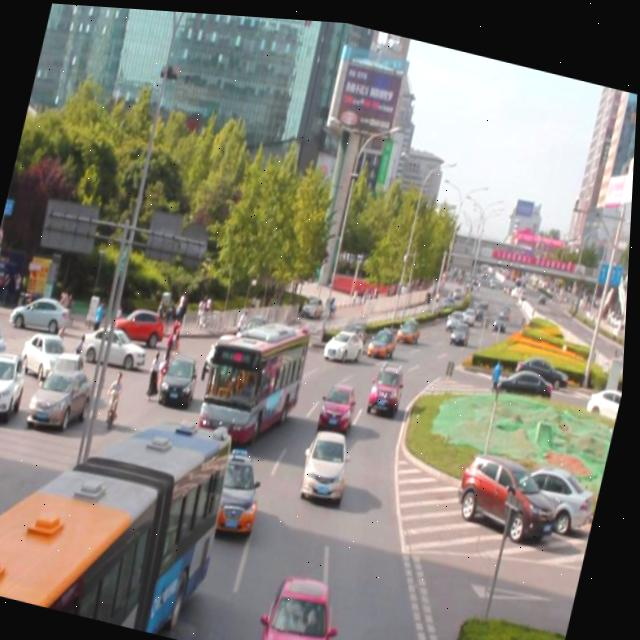car: (262, 560, 350, 640), (207, 439, 272, 532), (299, 418, 359, 503), (237, 328, 286, 389), (159, 348, 206, 408), (368, 351, 413, 413), (209, 348, 259, 400), (207, 325, 250, 379), (322, 370, 363, 425), (324, 319, 370, 364), (368, 319, 400, 358), (340, 312, 372, 341), (396, 308, 425, 340)
van: (0, 362, 234, 639), (201, 305, 315, 446)
